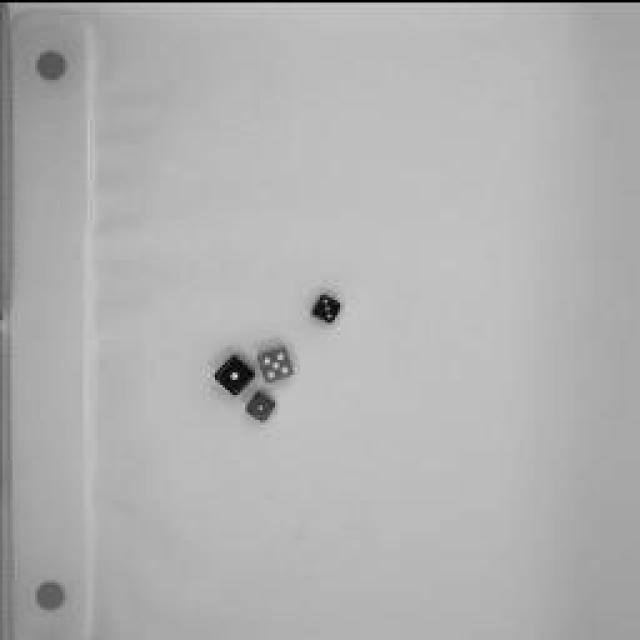dice_1: (211, 350, 259, 398), (242, 386, 278, 426)
dice_3: (301, 284, 349, 326)
dice_5: (248, 338, 302, 388)
